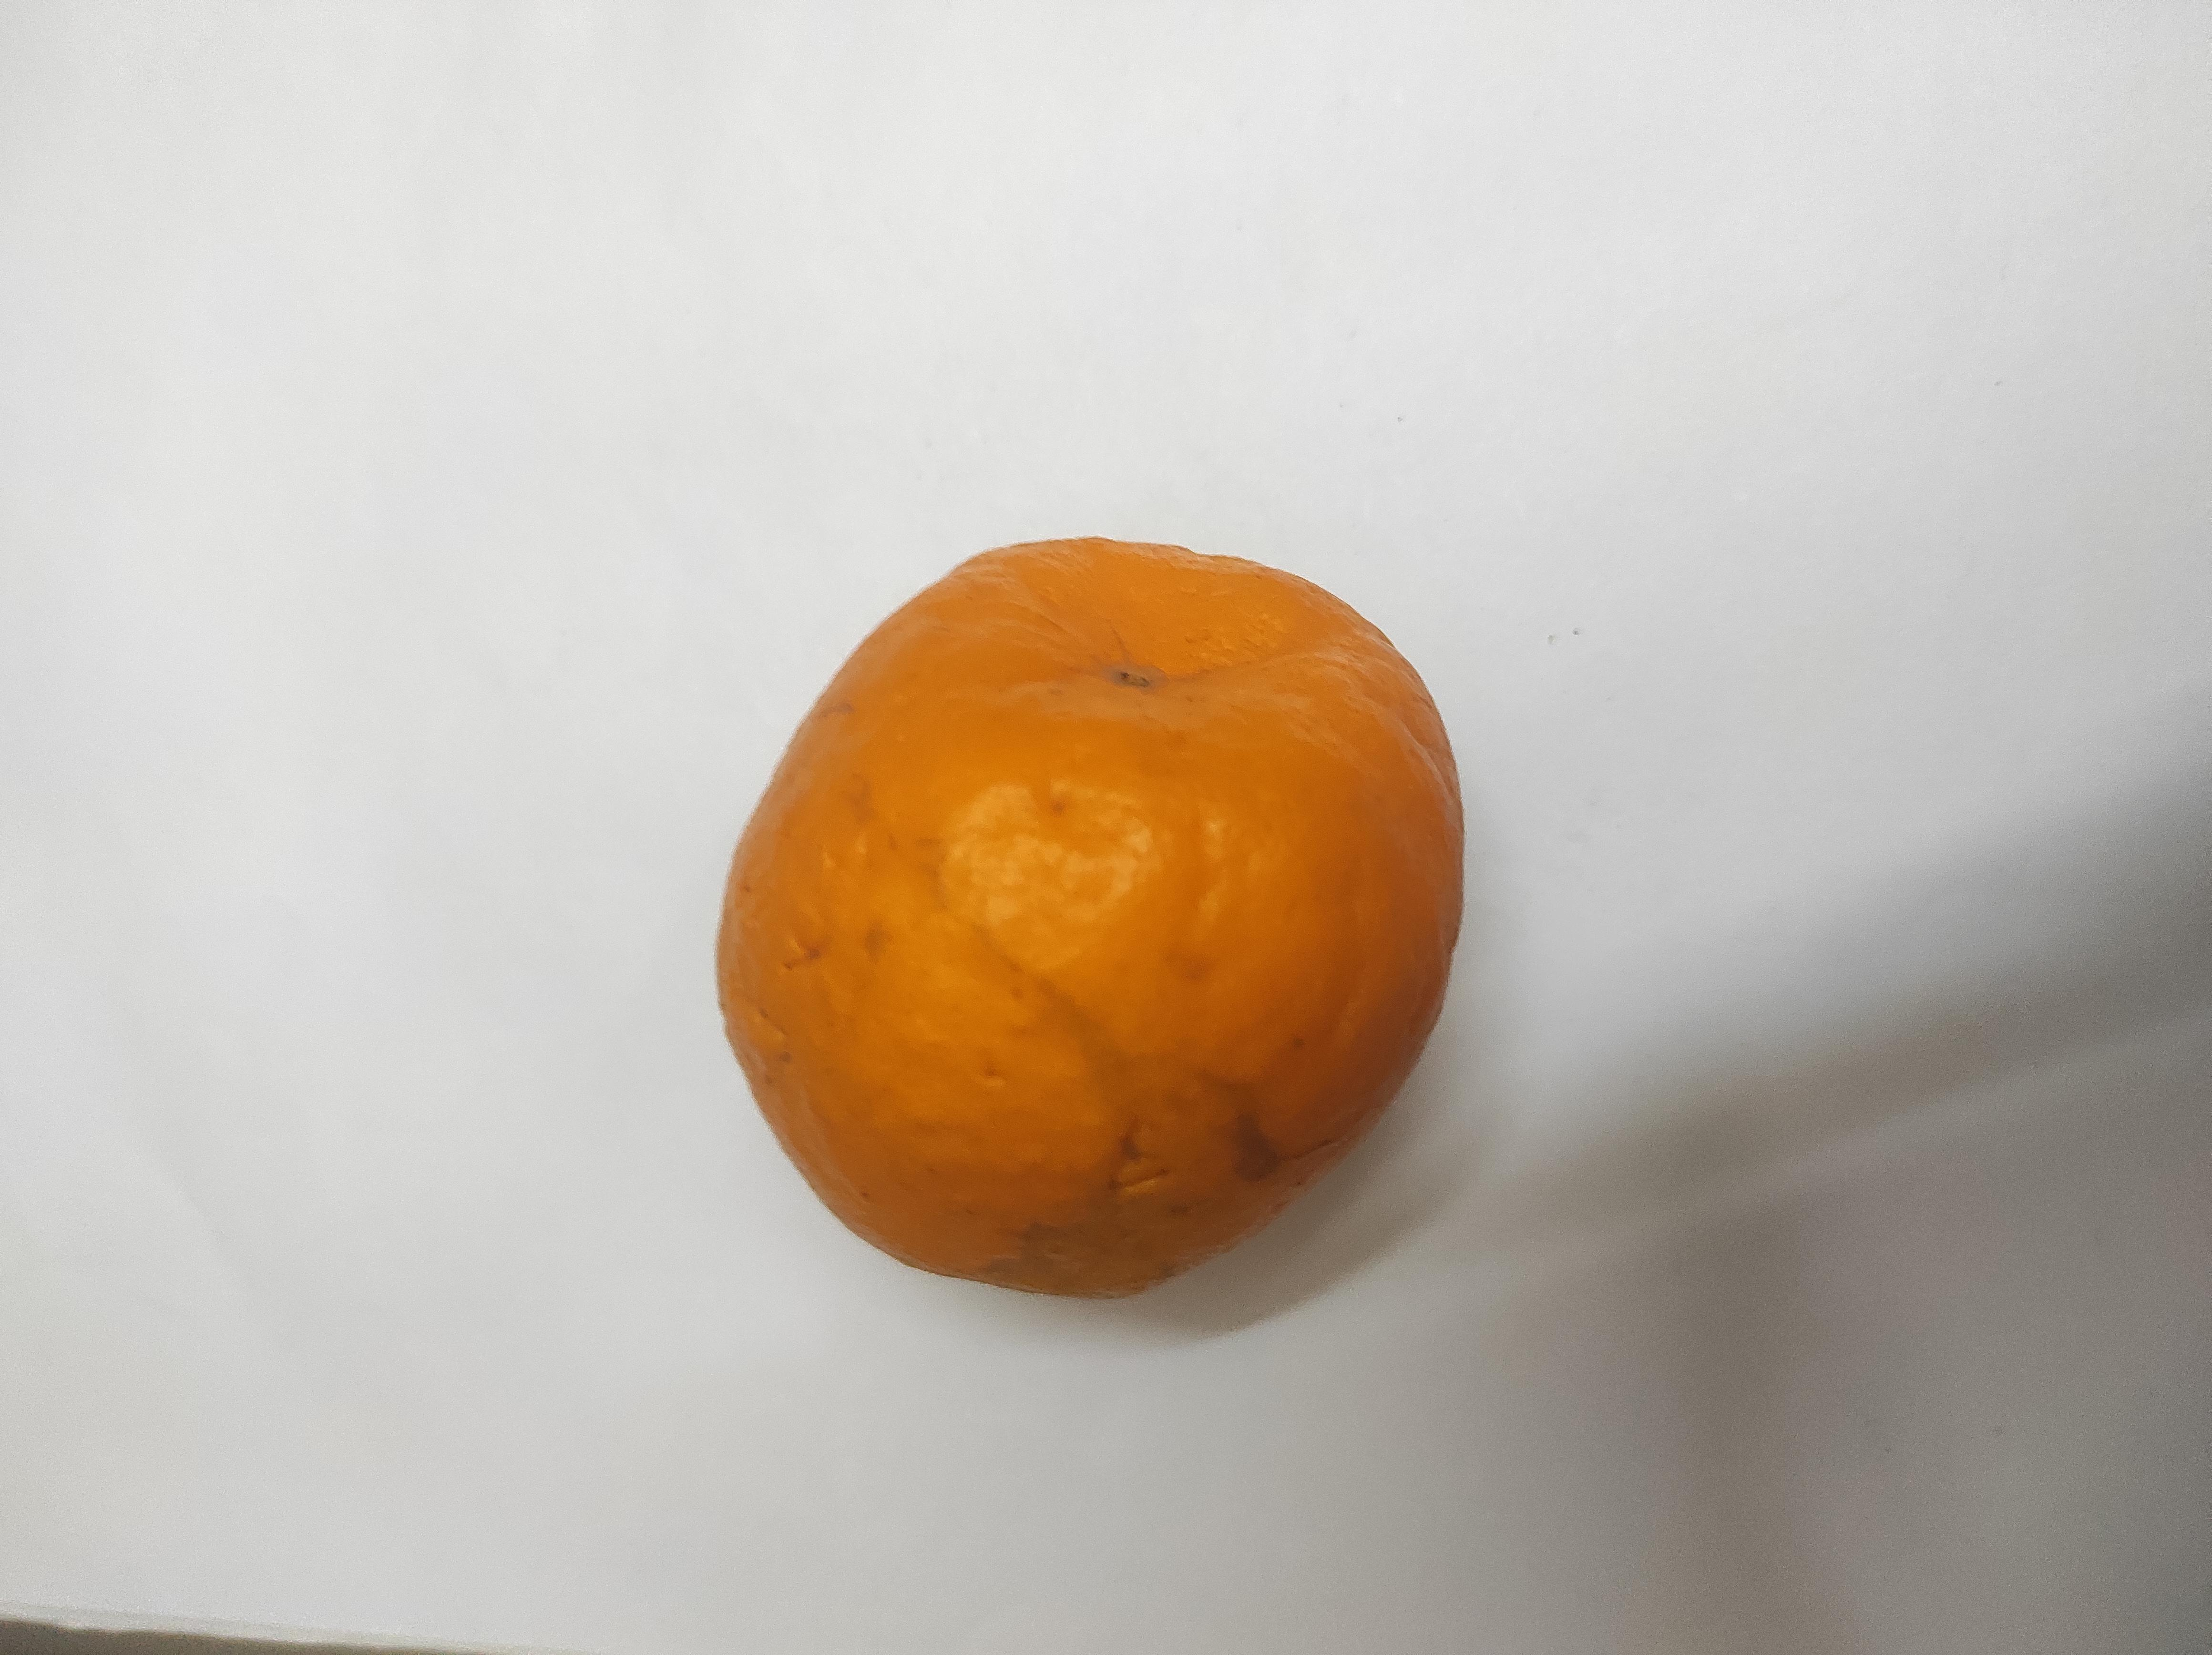Ripe: (471, 528, 1516, 1099)
